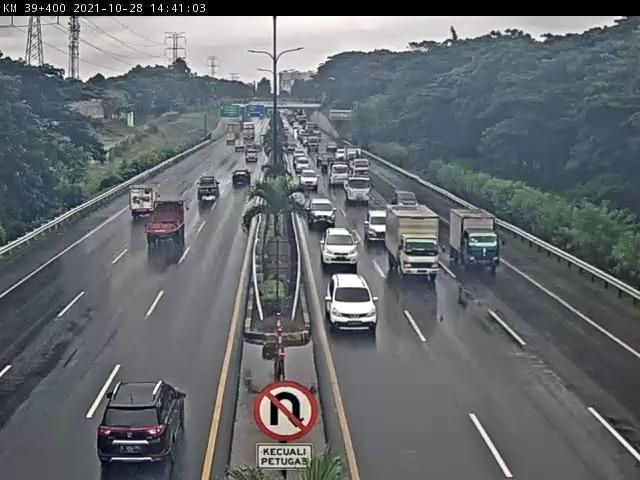car: (100, 380, 191, 476), (327, 276, 380, 335), (321, 227, 362, 269), (306, 198, 336, 230), (366, 209, 388, 245), (196, 176, 223, 203)
truck: (385, 204, 442, 282), (450, 208, 502, 274), (144, 199, 188, 247), (129, 183, 162, 217)
